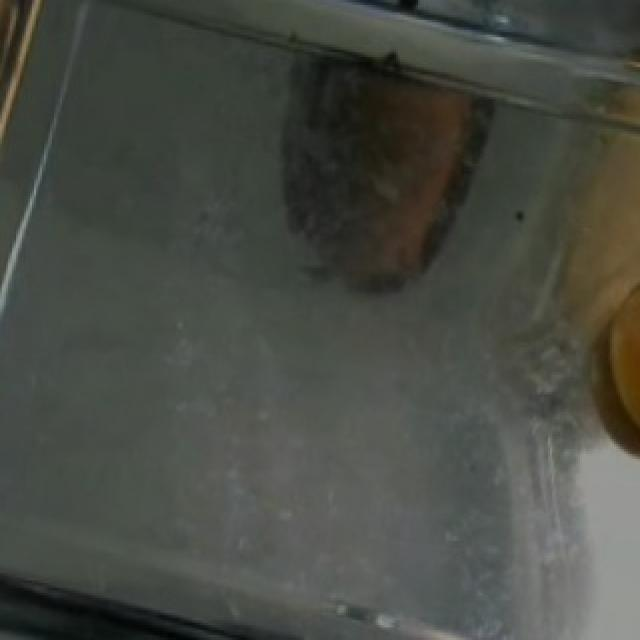Fruit: (576, 243, 640, 466)
